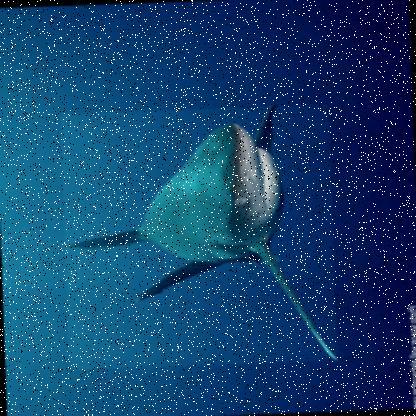bulldog-shark: (61, 104, 338, 370)
